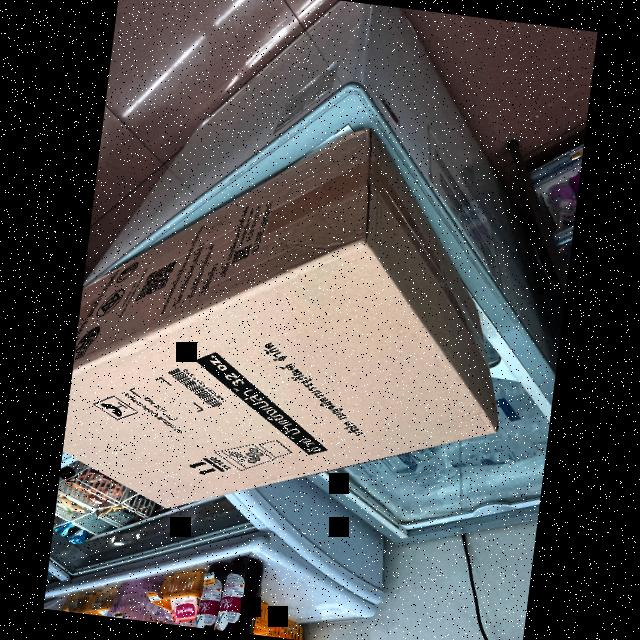cardboard_box: (58, 98, 534, 548)
